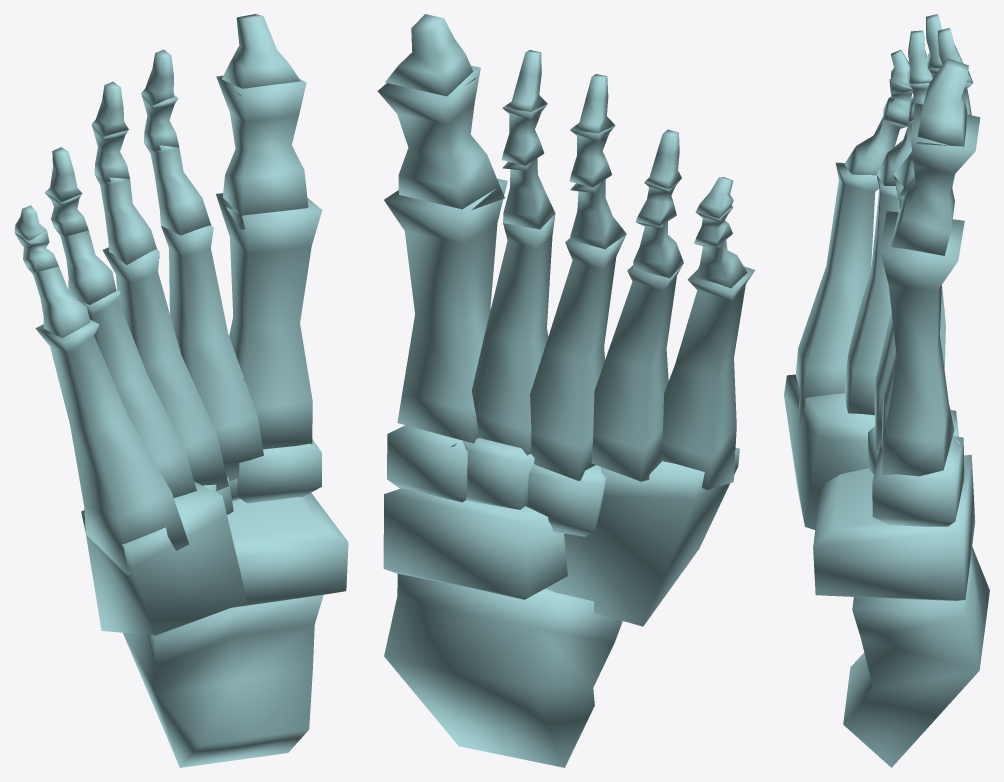
The model's file is Skelly_foot.R.fbx.
3 views of the same model, side by side, from view 1: azimuth 30°, elevation 25°; view 2: azimuth 150°, elevation 25°; view 3: azimuth 270°, elevation 25° (orthographic). The views are drawn at different scales.
Parts seen in each view (by area): view 1: Skelly_foot.R; view 2: Skelly_foot.R; view 3: Skelly_foot.R.
Part boxes in pixels (left/top/right/bottom): Skelly_foot.R: left=14, top=14, right=348, bottom=767; Skelly_foot.R: left=377, top=14, right=755, bottom=767; Skelly_foot.R: left=784, top=14, right=989, bottom=767.
Bounding box in the file's own units: 9.91 × 22.73 × 6.04.
